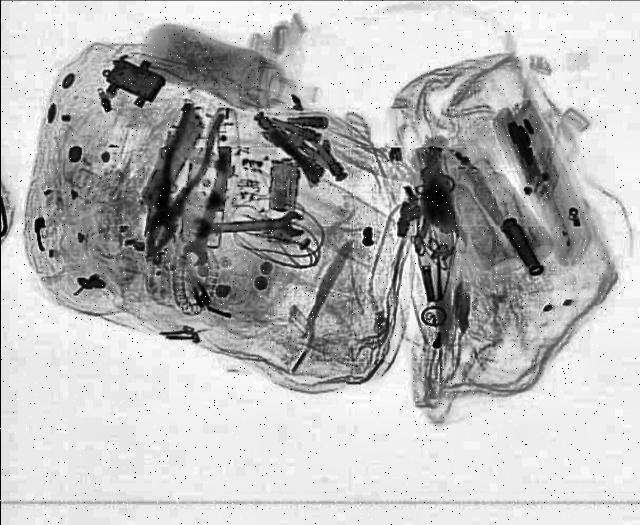Pliers: (127, 104, 226, 262)
Wrench: (176, 160, 238, 268), (190, 212, 302, 244)
